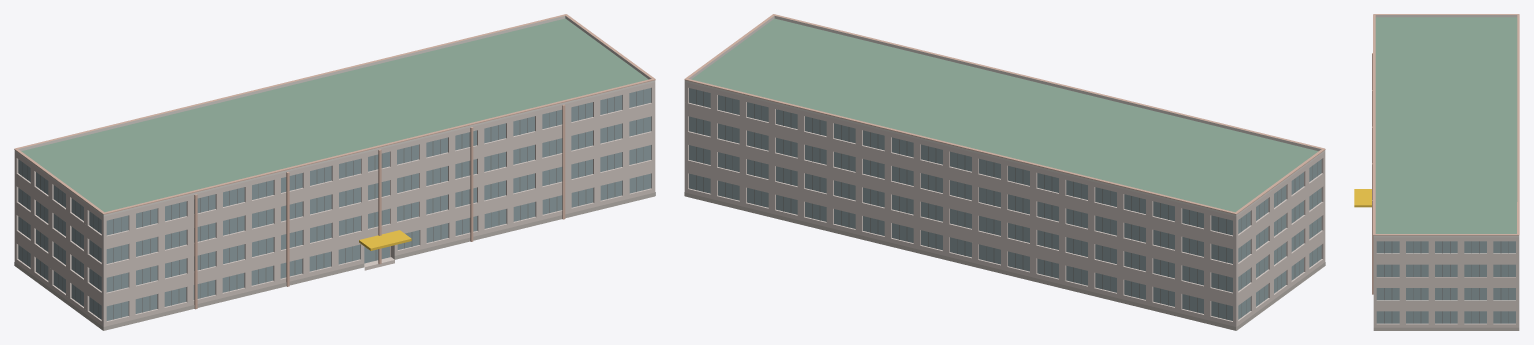
3 renders of one model, left to right at view 1: azimuth 30°, elevation 25°; view 2: azimuth 150°, elevation 25°; view 3: azimuth 270°, elevation 25°, orthographic. The views are drawn at different scales.
Visible parts, largest first — view 1: b117903332__roof, b117903332__wall, b117903332__glass, b117903332__trim, b117903332__parapet, b117903332__frame, b117903332__base, b117903332__canopy; view 2: b117903332__wall, b117903332__roof, b117903332__glass, b117903332__parapet, b117903332__frame, b117903332__trim, b117903332__base; view 3: b117903332__roof, b117903332__wall, b117903332__glass, b117903332__trim, b117903332__parapet, b117903332__frame, b117903332__base, b117903332__canopy.
Boxes of the visible parts, box(x1,y1,x2,y2) form: b117903332__roof: box(21, 18, 648, 212); b117903332__wall: box(14, 82, 655, 330); b117903332__glass: box(18, 88, 651, 320); b117903332__trim: box(14, 14, 655, 309); b117903332__parapet: box(14, 15, 655, 216); b117903332__frame: box(22, 90, 643, 319); b117903332__base: box(14, 192, 655, 330); b117903332__canopy: box(359, 230, 411, 250); b117903332__wall: box(684, 82, 1325, 330); b117903332__roof: box(691, 18, 1318, 330); b117903332__glass: box(689, 88, 1321, 320); b117903332__parapet: box(684, 15, 1325, 216); b117903332__frame: box(696, 89, 1317, 319); b117903332__trim: box(684, 14, 1325, 214); b117903332__base: box(684, 192, 1325, 330); b117903332__roof: box(1375, 17, 1517, 233); b117903332__wall: box(1373, 237, 1519, 327); b117903332__glass: box(1376, 241, 1515, 323); b117903332__trim: box(1372, 14, 1519, 294); b117903332__parapet: box(1373, 15, 1519, 237); b117903332__frame: box(1384, 241, 1508, 323); b117903332__base: box(1373, 327, 1519, 330); b117903332__canopy: box(1354, 189, 1371, 207).
Size of the model in its own units: 72.9 by 15.15 by 23.08.
